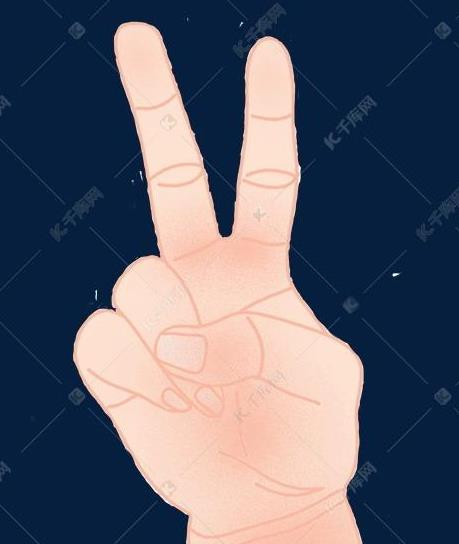front: (65, 15, 370, 507)
